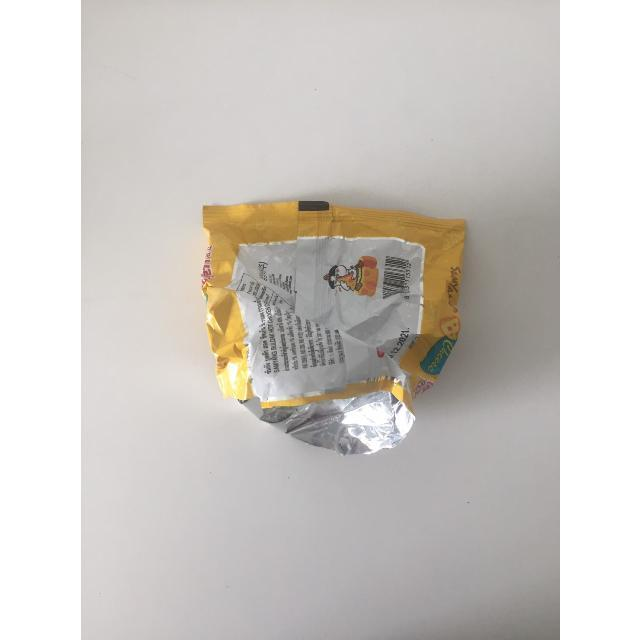Paquete de plastico: (205, 210, 495, 453)
